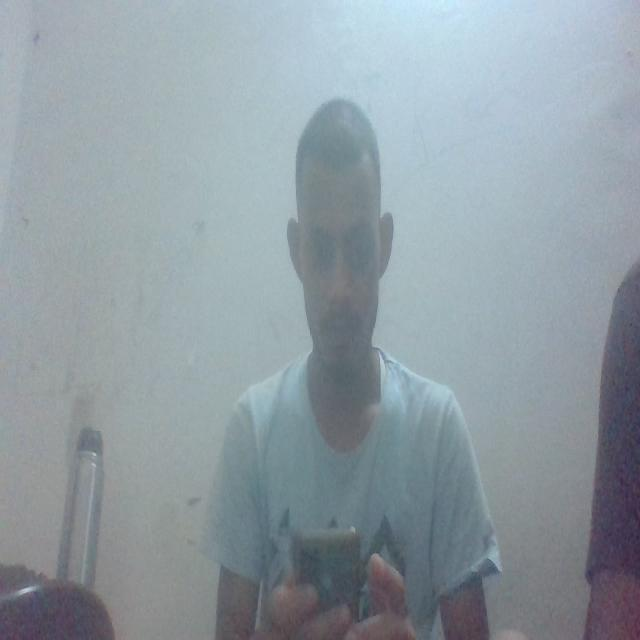Phone: (286, 524, 364, 626)
